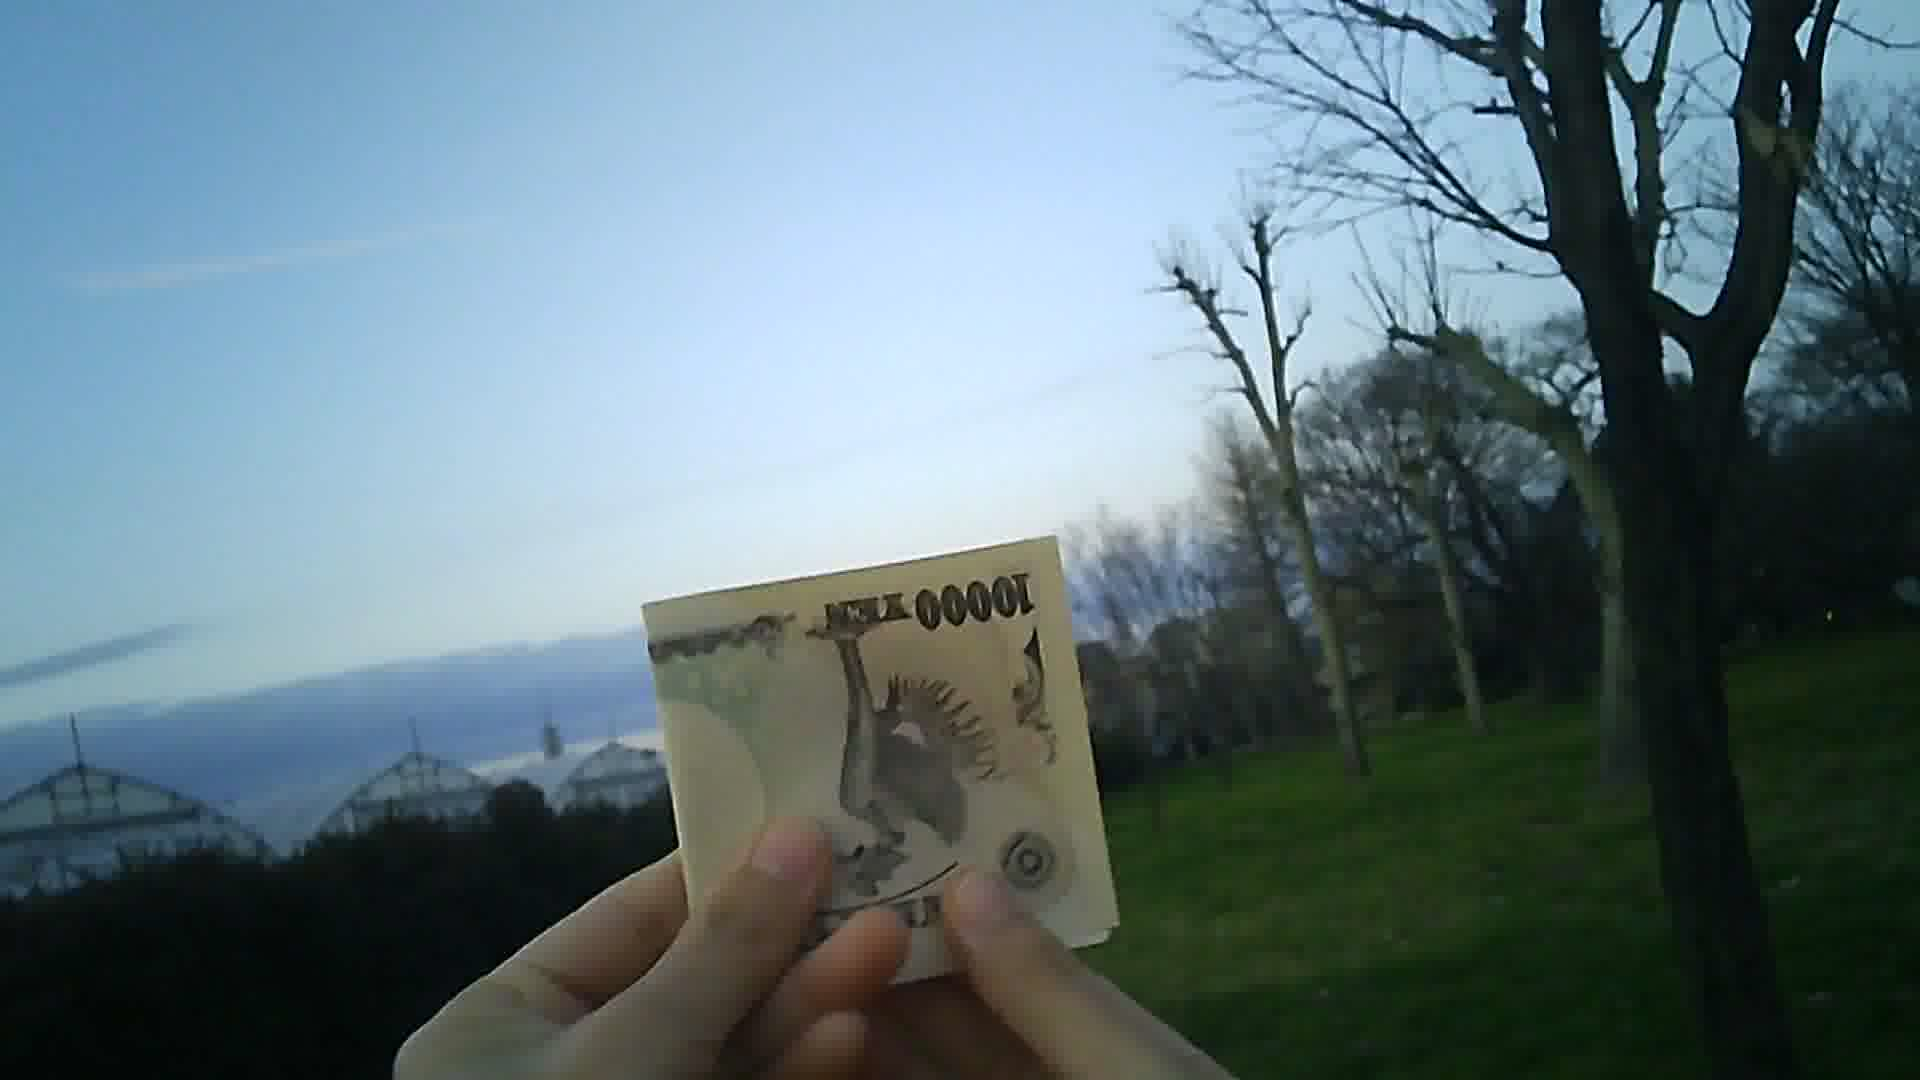10,000 Yen: (625, 517, 1138, 985)
